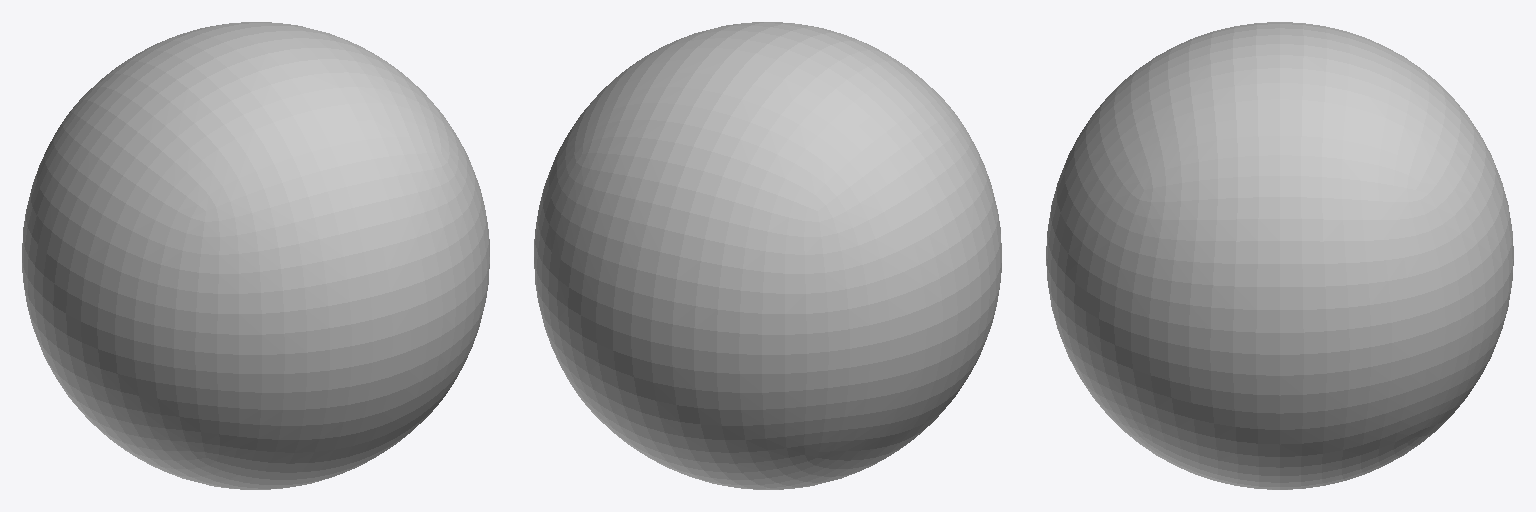
Rendered from ball.obj.
The picture shows the model from 3 angles: view 1: azimuth 30°, elevation 25°; view 2: azimuth 150°, elevation 25°; view 3: azimuth 270°, elevation 25°; orthographic projection.
Parts seen in each view (by area): view 1: ball; view 2: ball; view 3: ball.
Part boxes in pixels (x1,y1,x2,y2): ball: (22, 22, 489, 489); ball: (534, 22, 1001, 489); ball: (1046, 22, 1513, 489).
Size of the model in its own units: 6.97 by 6.97 by 6.97.